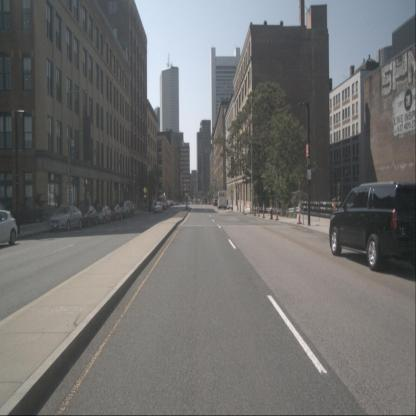cone: (297, 201, 302, 224), (332, 202, 336, 226), (270, 202, 274, 220), (275, 203, 279, 221), (262, 202, 266, 218), (257, 202, 260, 216), (254, 202, 257, 216), (249, 201, 252, 215), (242, 201, 245, 214), (228, 199, 231, 209)
